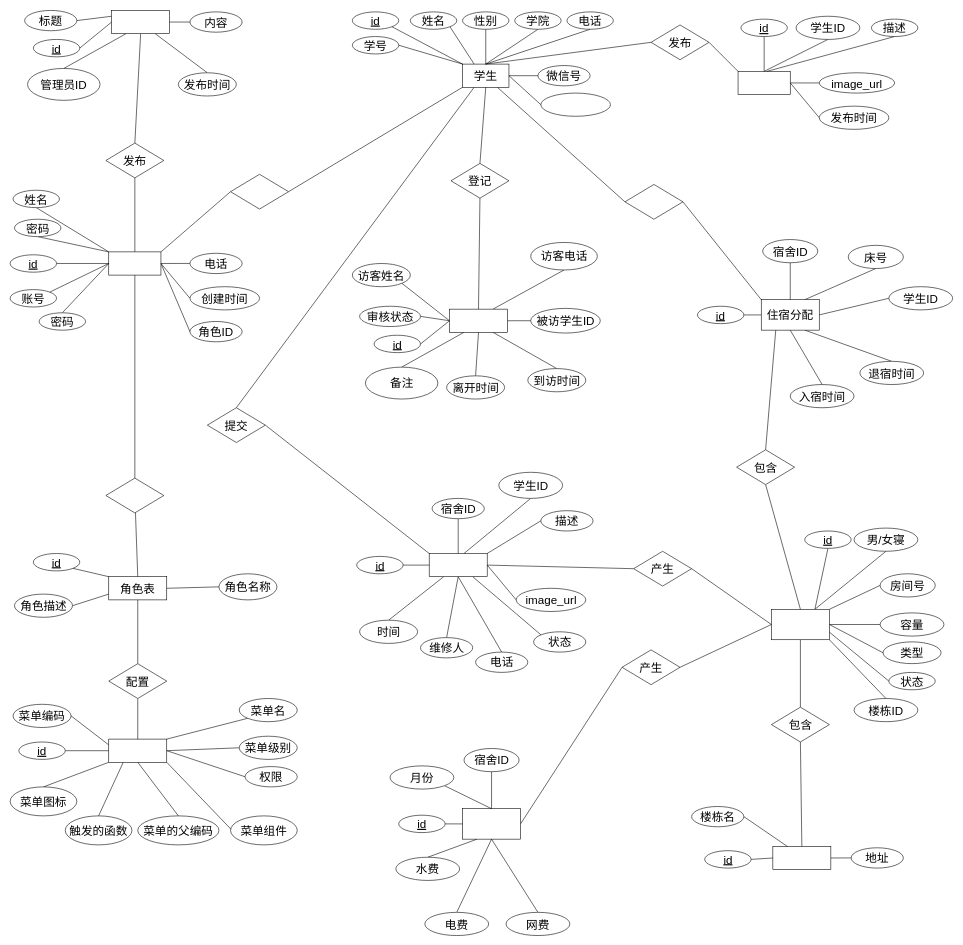
This 963x945 diagram has some shape labels left out. The centre of each missing label's shape, as x and y in pixels:
"teacher_id" goes at pixel 575 104.
"公告发布" goes at pixel 140 22.
"失物招领" goes at pixel 763 83.
"宿舍" goes at pixel 800 624.
"属于" goes at pixel 134 495.
"报修管理" goes at pixel 458 565.
"拥有" goes at pixel 653 201.
"楼栋" goes at pixel 801 858.
"管理" goes at pixel 259 191.
"管理用户" goes at pixel 134 263.
"菜单" goes at pixel 137 750.
"访客登记" goes at pixel 478 320.
"费用记录" goes at pixel 491 823.
